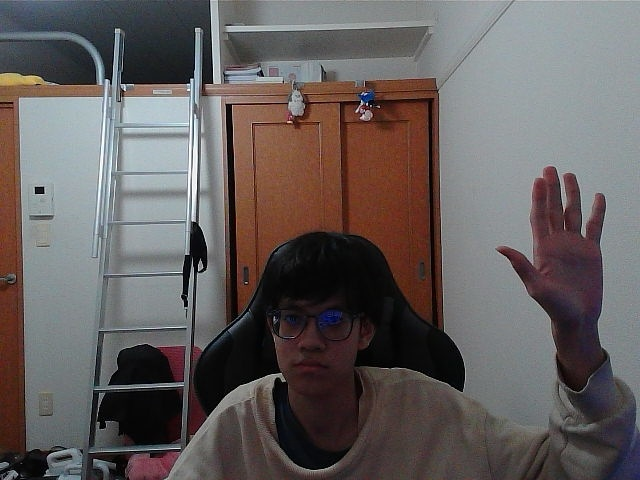open_palm: (506, 172, 600, 307)
